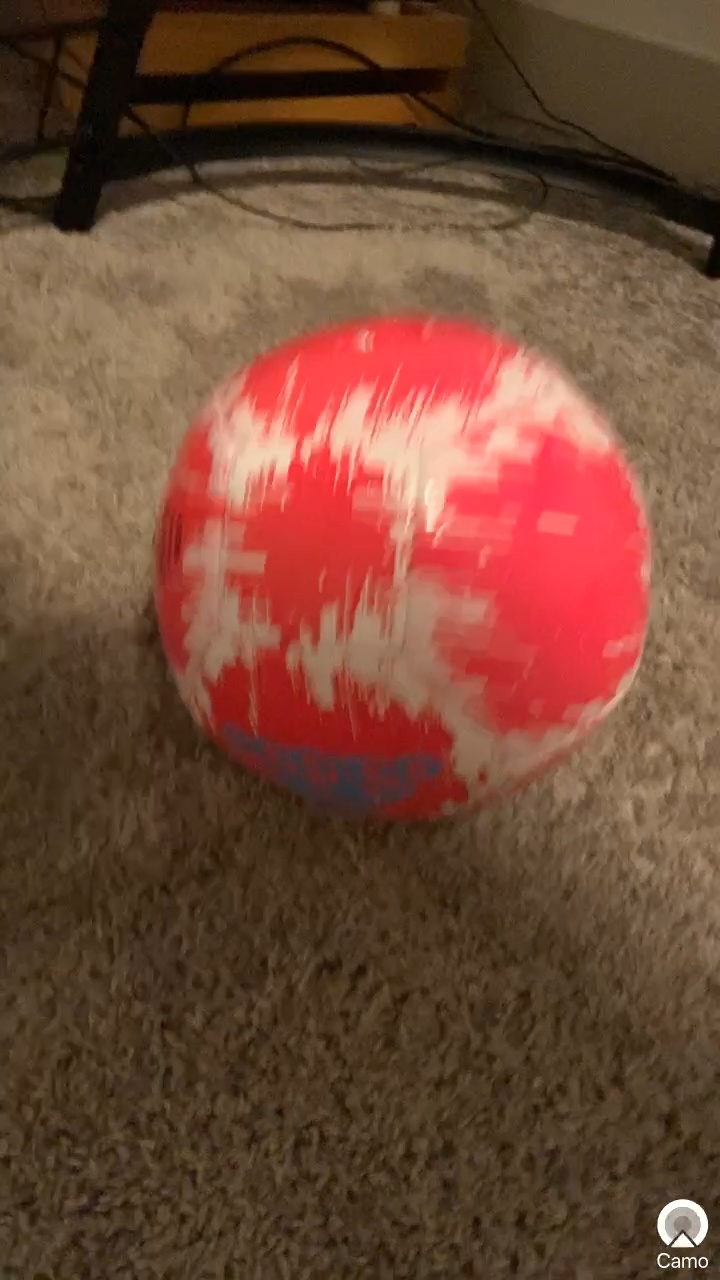Soccer_Ball: (139, 308, 659, 828)
